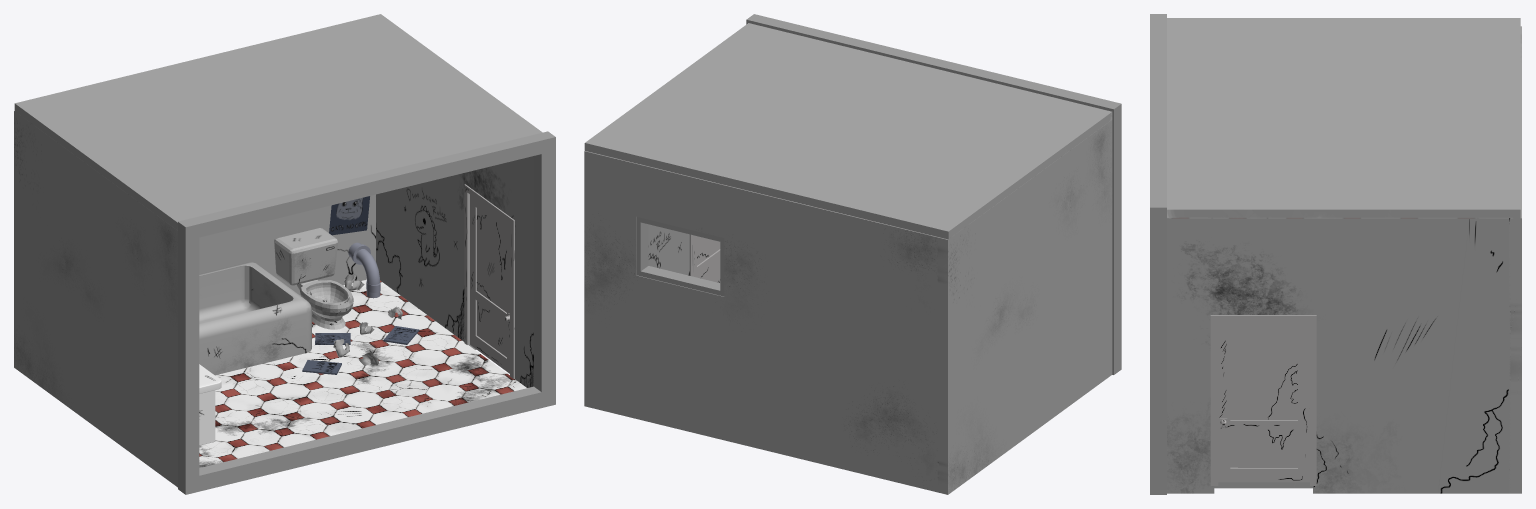
Rendered from Bathroom.fbx.
3 views of the same model, side by side, from view 1: azimuth 30°, elevation 25°; view 2: azimuth 150°, elevation 25°; view 3: azimuth 270°, elevation 25° (orthographic). The views are drawn at different scales.
Parts seen in each view (by area): view 1: Floor_Bathroom1, SideWall, OutsideFrame, Floor_Bathroom, Wall3, bathtub, BackgroundWall, Door2, Toilet, Door3, Sink, Poster3 (+1 smaller); view 2: BackgroundWall, Floor_Bathroom1, SideWall, OutsideFrame, Window, Wall3, Door2; view 3: Wall3, Floor_Bathroom1, Door2, OutsideFrame, BackgroundWall, Door3, Floor_Bathroom.
Boxes of the visible parts, left/top/right/bottom form: Floor_Bathroom1: left=14, top=14, right=542, bottom=230; SideWall: left=14, top=111, right=177, bottom=487; OutsideFrame: left=178, top=131, right=555, bottom=494; Floor_Bathroom: left=199, top=279, right=526, bottom=467; Wall3: left=376, top=156, right=533, bottom=387; bathtub: left=199, top=262, right=311, bottom=375; BackgroundWall: left=199, top=194, right=375, bottom=295; Door2: left=470, top=194, right=509, bottom=373; Toilet: left=274, top=228, right=353, bottom=329; Door3: left=464, top=184, right=514, bottom=378; Sink: left=199, top=364, right=221, bottom=445; Poster3: left=329, top=196, right=369, bottom=235; BackgroundWall: left=584, top=151, right=937, bottom=492; Floor_Bathroom1: left=584, top=23, right=1112, bottom=239; SideWall: left=937, top=120, right=1112, bottom=494; OutsideFrame: left=746, top=14, right=1121, bottom=374; Window: left=636, top=217, right=724, bottom=296; Wall3: left=648, top=224, right=689, bottom=275; Door2: left=694, top=235, right=720, bottom=282; Wall3: left=1167, top=218, right=1510, bottom=493; Floor_Bathroom1: left=1167, top=18, right=1520, bottom=218; Door2: left=1218, top=322, right=1309, bottom=482; OutsideFrame: left=1150, top=14, right=1166, bottom=494; BackgroundWall: left=1509, top=32, right=1521, bottom=493; Door3: left=1210, top=315, right=1316, bottom=485; Floor_Bathroom: left=1214, top=482, right=1312, bottom=488.
Bounding box in the file's own units: 298 × 206 × 241.
Materials: 21 (16 with a texture image).
